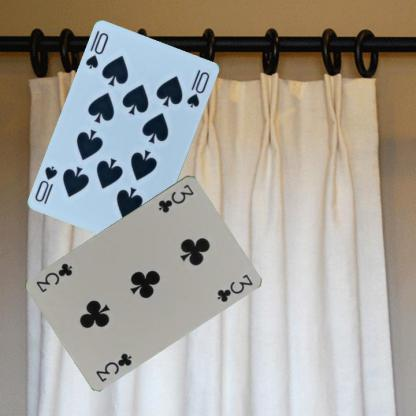10s: (83, 30, 110, 71)
3c: (156, 181, 196, 214), (93, 350, 133, 383)
